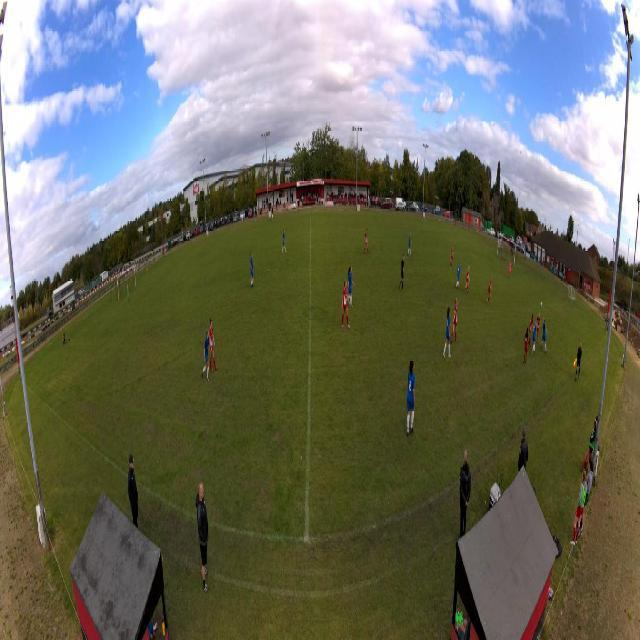ball: (540, 301, 542, 309)
player: (406, 359, 416, 437), (201, 328, 212, 383), (209, 316, 218, 374), (443, 306, 453, 358), (341, 279, 351, 330), (347, 265, 355, 311), (451, 296, 458, 344), (523, 326, 530, 366), (541, 317, 548, 355), (399, 253, 405, 292), (528, 312, 534, 348), (531, 321, 537, 356), (487, 274, 493, 306), (464, 264, 470, 295), (455, 260, 461, 291), (363, 228, 369, 256), (536, 312, 541, 344), (282, 229, 288, 255), (250, 251, 254, 289), (407, 232, 412, 257), (450, 245, 454, 270), (126, 283, 130, 304), (508, 260, 512, 279)
